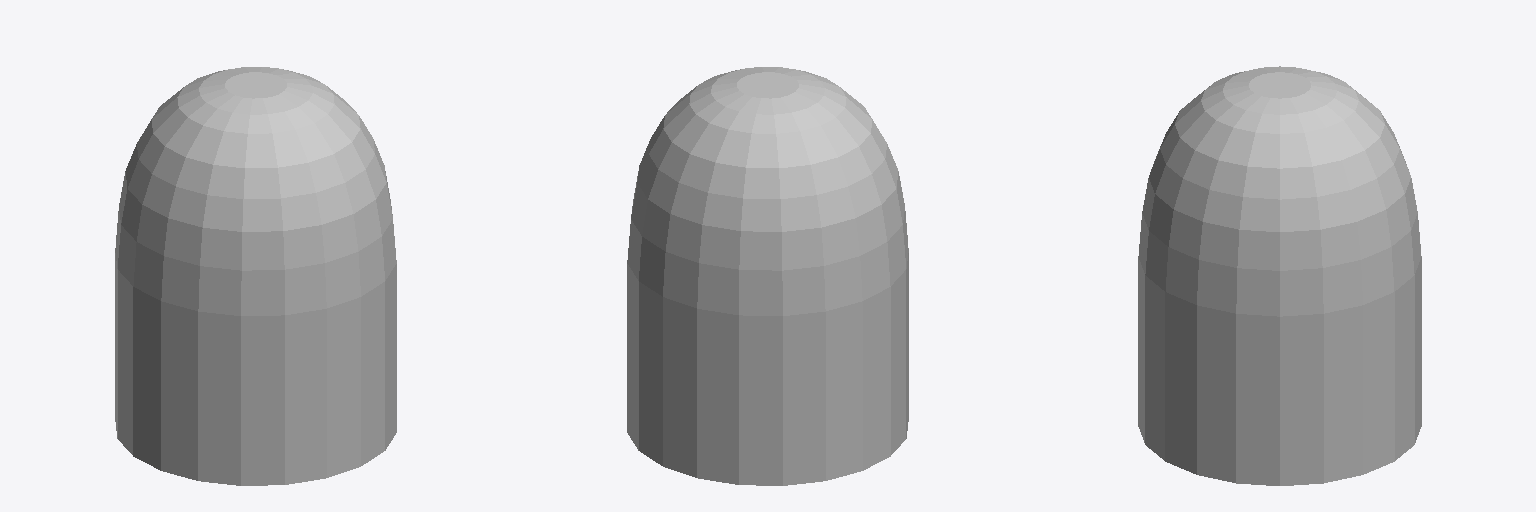
Rendered from grenade projectile.obj.
3 views of the same model, side by side, from view 1: azimuth 30°, elevation 25°; view 2: azimuth 150°, elevation 25°; view 3: azimuth 270°, elevation 25° (orthographic).
Parts seen in each view (by area): view 1: Cube.050_Cube.064; view 2: Cube.050_Cube.064; view 3: Cube.050_Cube.064.
Part boxes in pixels (x1,y1,x2,y2): Cube.050_Cube.064: (115, 67, 396, 485); Cube.050_Cube.064: (627, 67, 908, 485); Cube.050_Cube.064: (1138, 66, 1421, 485).
Bounding box in the file's own units: 0.2915 × 0.3877 × 0.2915.